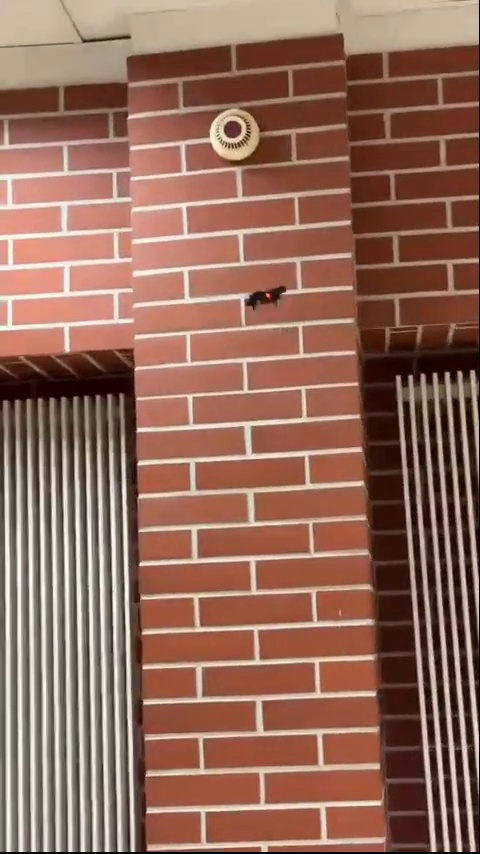drone: (242, 286, 290, 308)
